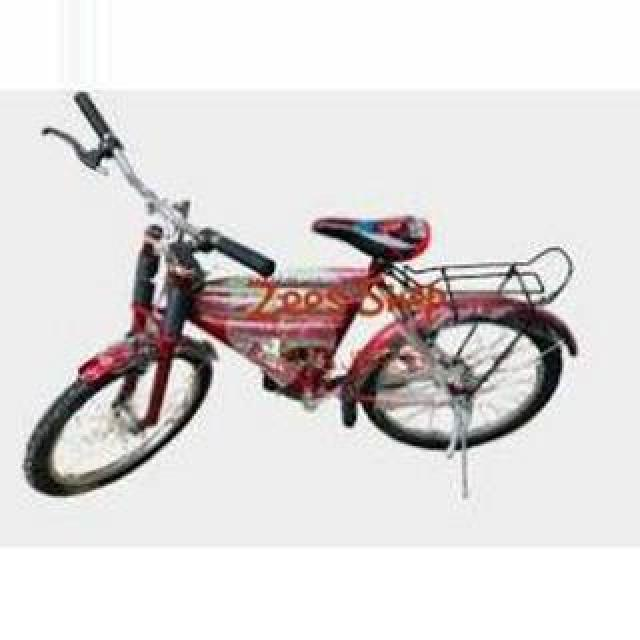Person: (21, 93, 579, 497)
